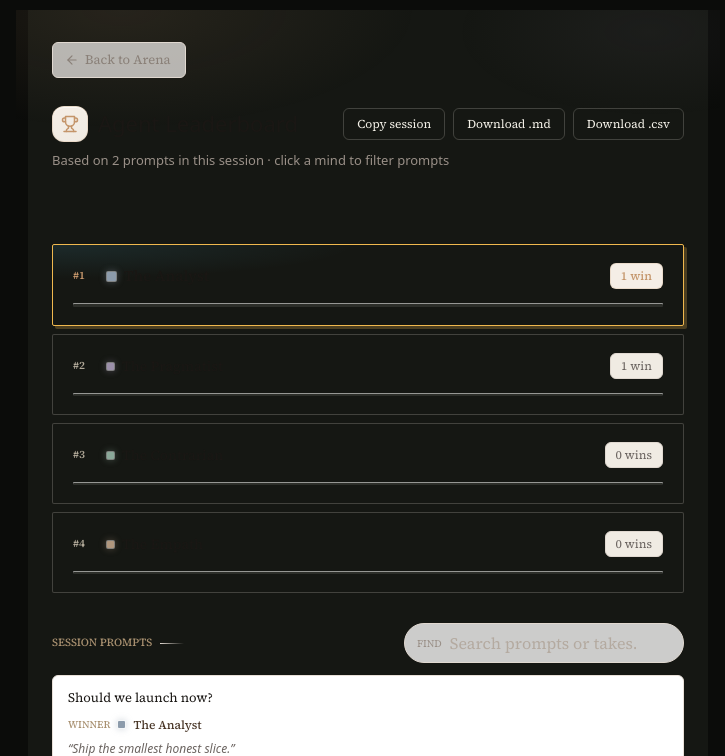
Test: LeaderboardView › filters session prompts as the user searches
The image size is (725, 756).
Expected: the text "Should we launch now?" is shown, 68,689 -> 213,706
Type "willingness pragmatist" into the search field named "Search session prompts" at [562, 643], box 442,624 -> 683,662
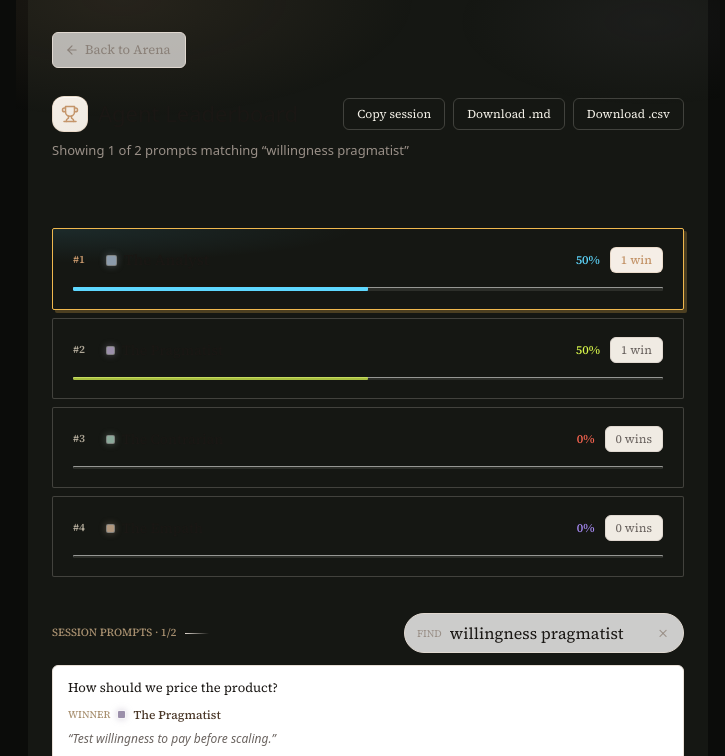
Expected: the text "How should we price the product?" is shown, 68,679 -> 278,696
Expected: the text "Should we launch now?" is gone
Expected: the text "Showing 1 of 2 prompts matching “willingness pragmatist”" is shown, 52,140 -> 409,158
